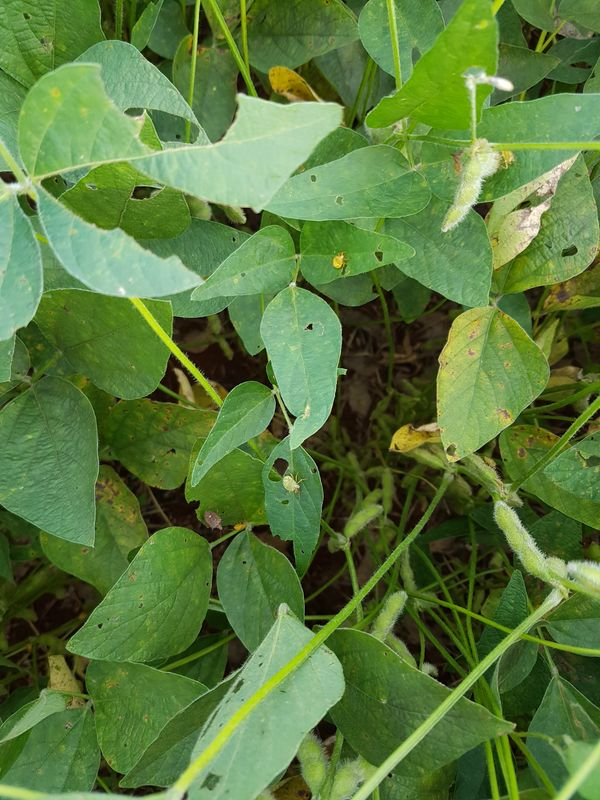Euschistus_heros_adulto: (193, 502, 229, 536)
Euschistus_heros_ninfa: (276, 469, 311, 499), (326, 249, 351, 271)
